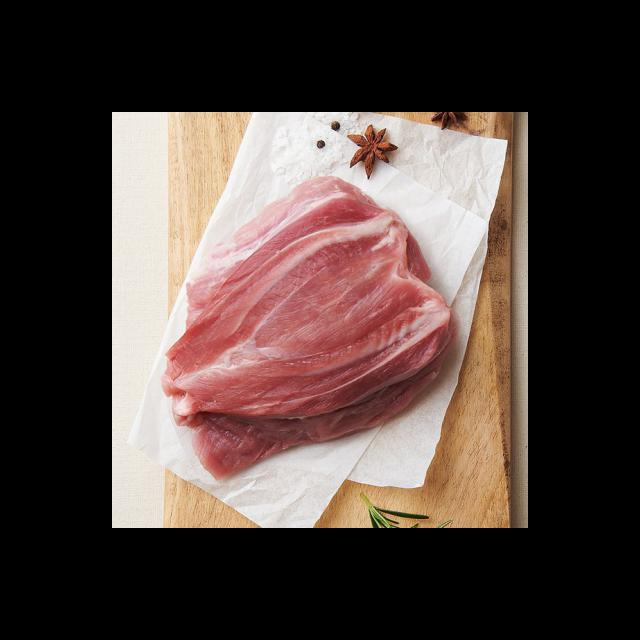pork: (170, 196, 458, 465)
